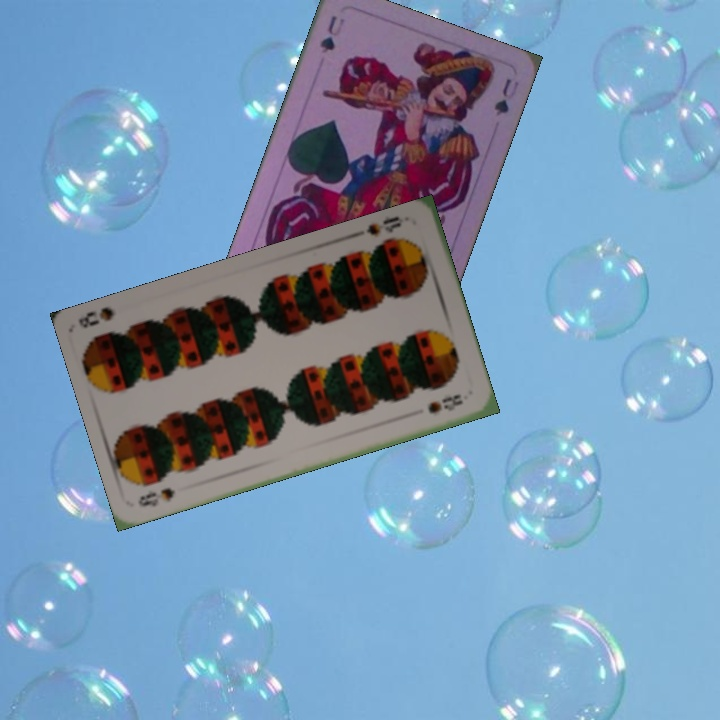GU: (315, 11, 348, 56)
S8: (134, 483, 177, 510), (362, 212, 404, 239)
